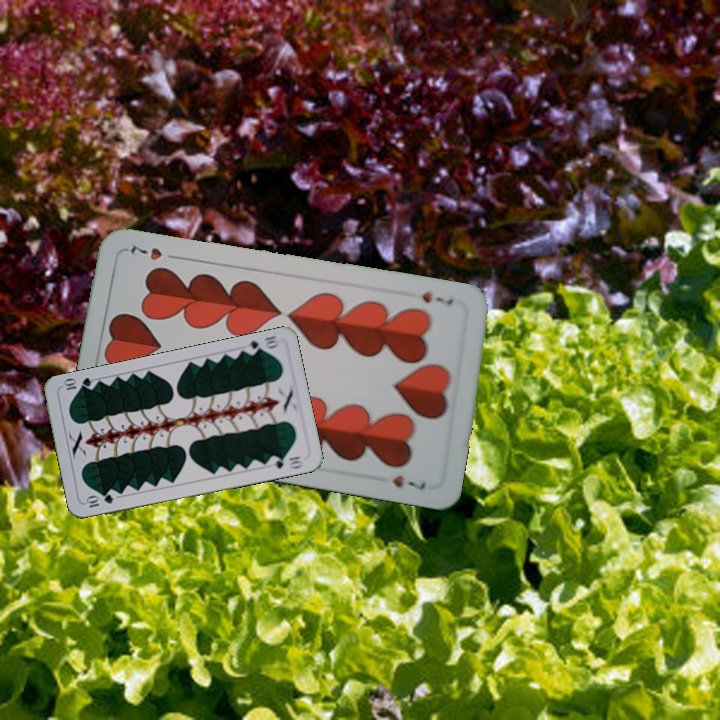G10: (242, 332, 282, 357), (82, 490, 116, 510)
H7: (417, 287, 456, 309)
